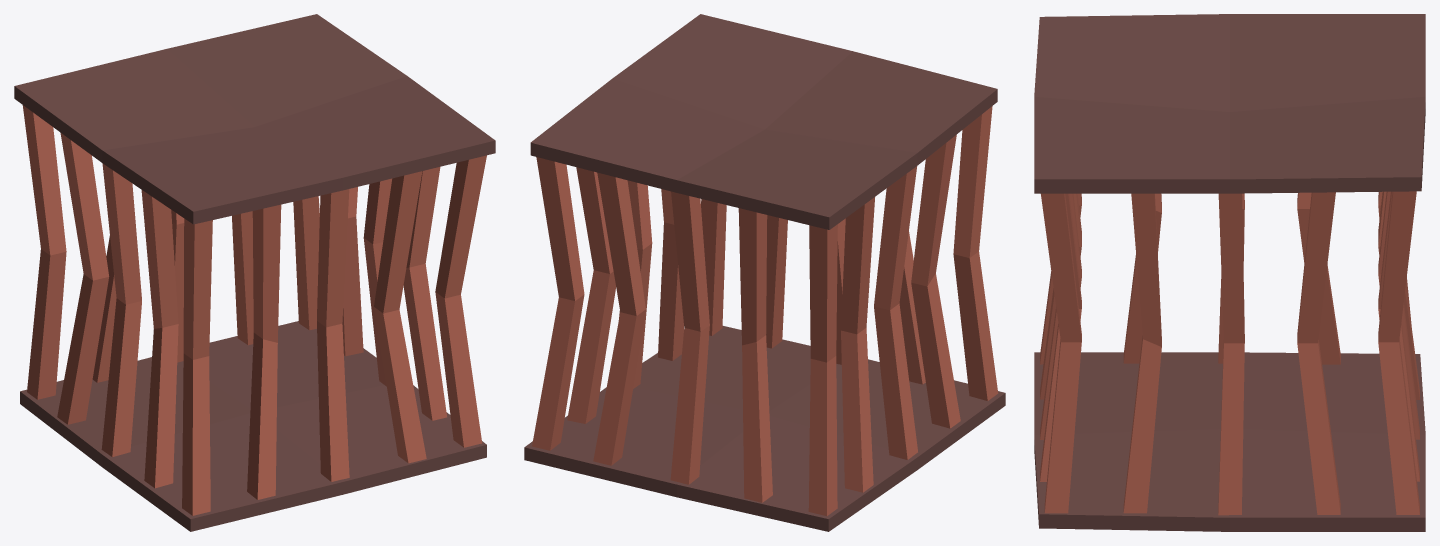
Rendered from Cage_1_Red.fbx.
3 views of the same model, side by side, from view 1: azimuth 30°, elevation 25°; view 2: azimuth 150°, elevation 25°; view 3: azimuth 270°, elevation 25° (orthographic). The views are drawn at different scales.
Parts seen in each view (by area): view 1: Cage_1_Red_Part_1, Cage_1_Red_Part_2; view 2: Cage_1_Red_Part_1, Cage_1_Red_Part_2; view 3: Cage_1_Red_Part_1, Cage_1_Red_Part_2.
Boxes of the visible parts, x1,y1,x2,y2 form: Cage_1_Red_Part_1: [14, 14, 495, 531]; Cage_1_Red_Part_2: [22, 105, 486, 515]; Cage_1_Red_Part_1: [524, 14, 1005, 531]; Cage_1_Red_Part_2: [532, 106, 998, 516]; Cage_1_Red_Part_1: [1034, 14, 1425, 531]; Cage_1_Red_Part_2: [1040, 191, 1419, 515].
Bounding box in the file's own units: 150 × 149 × 150.
